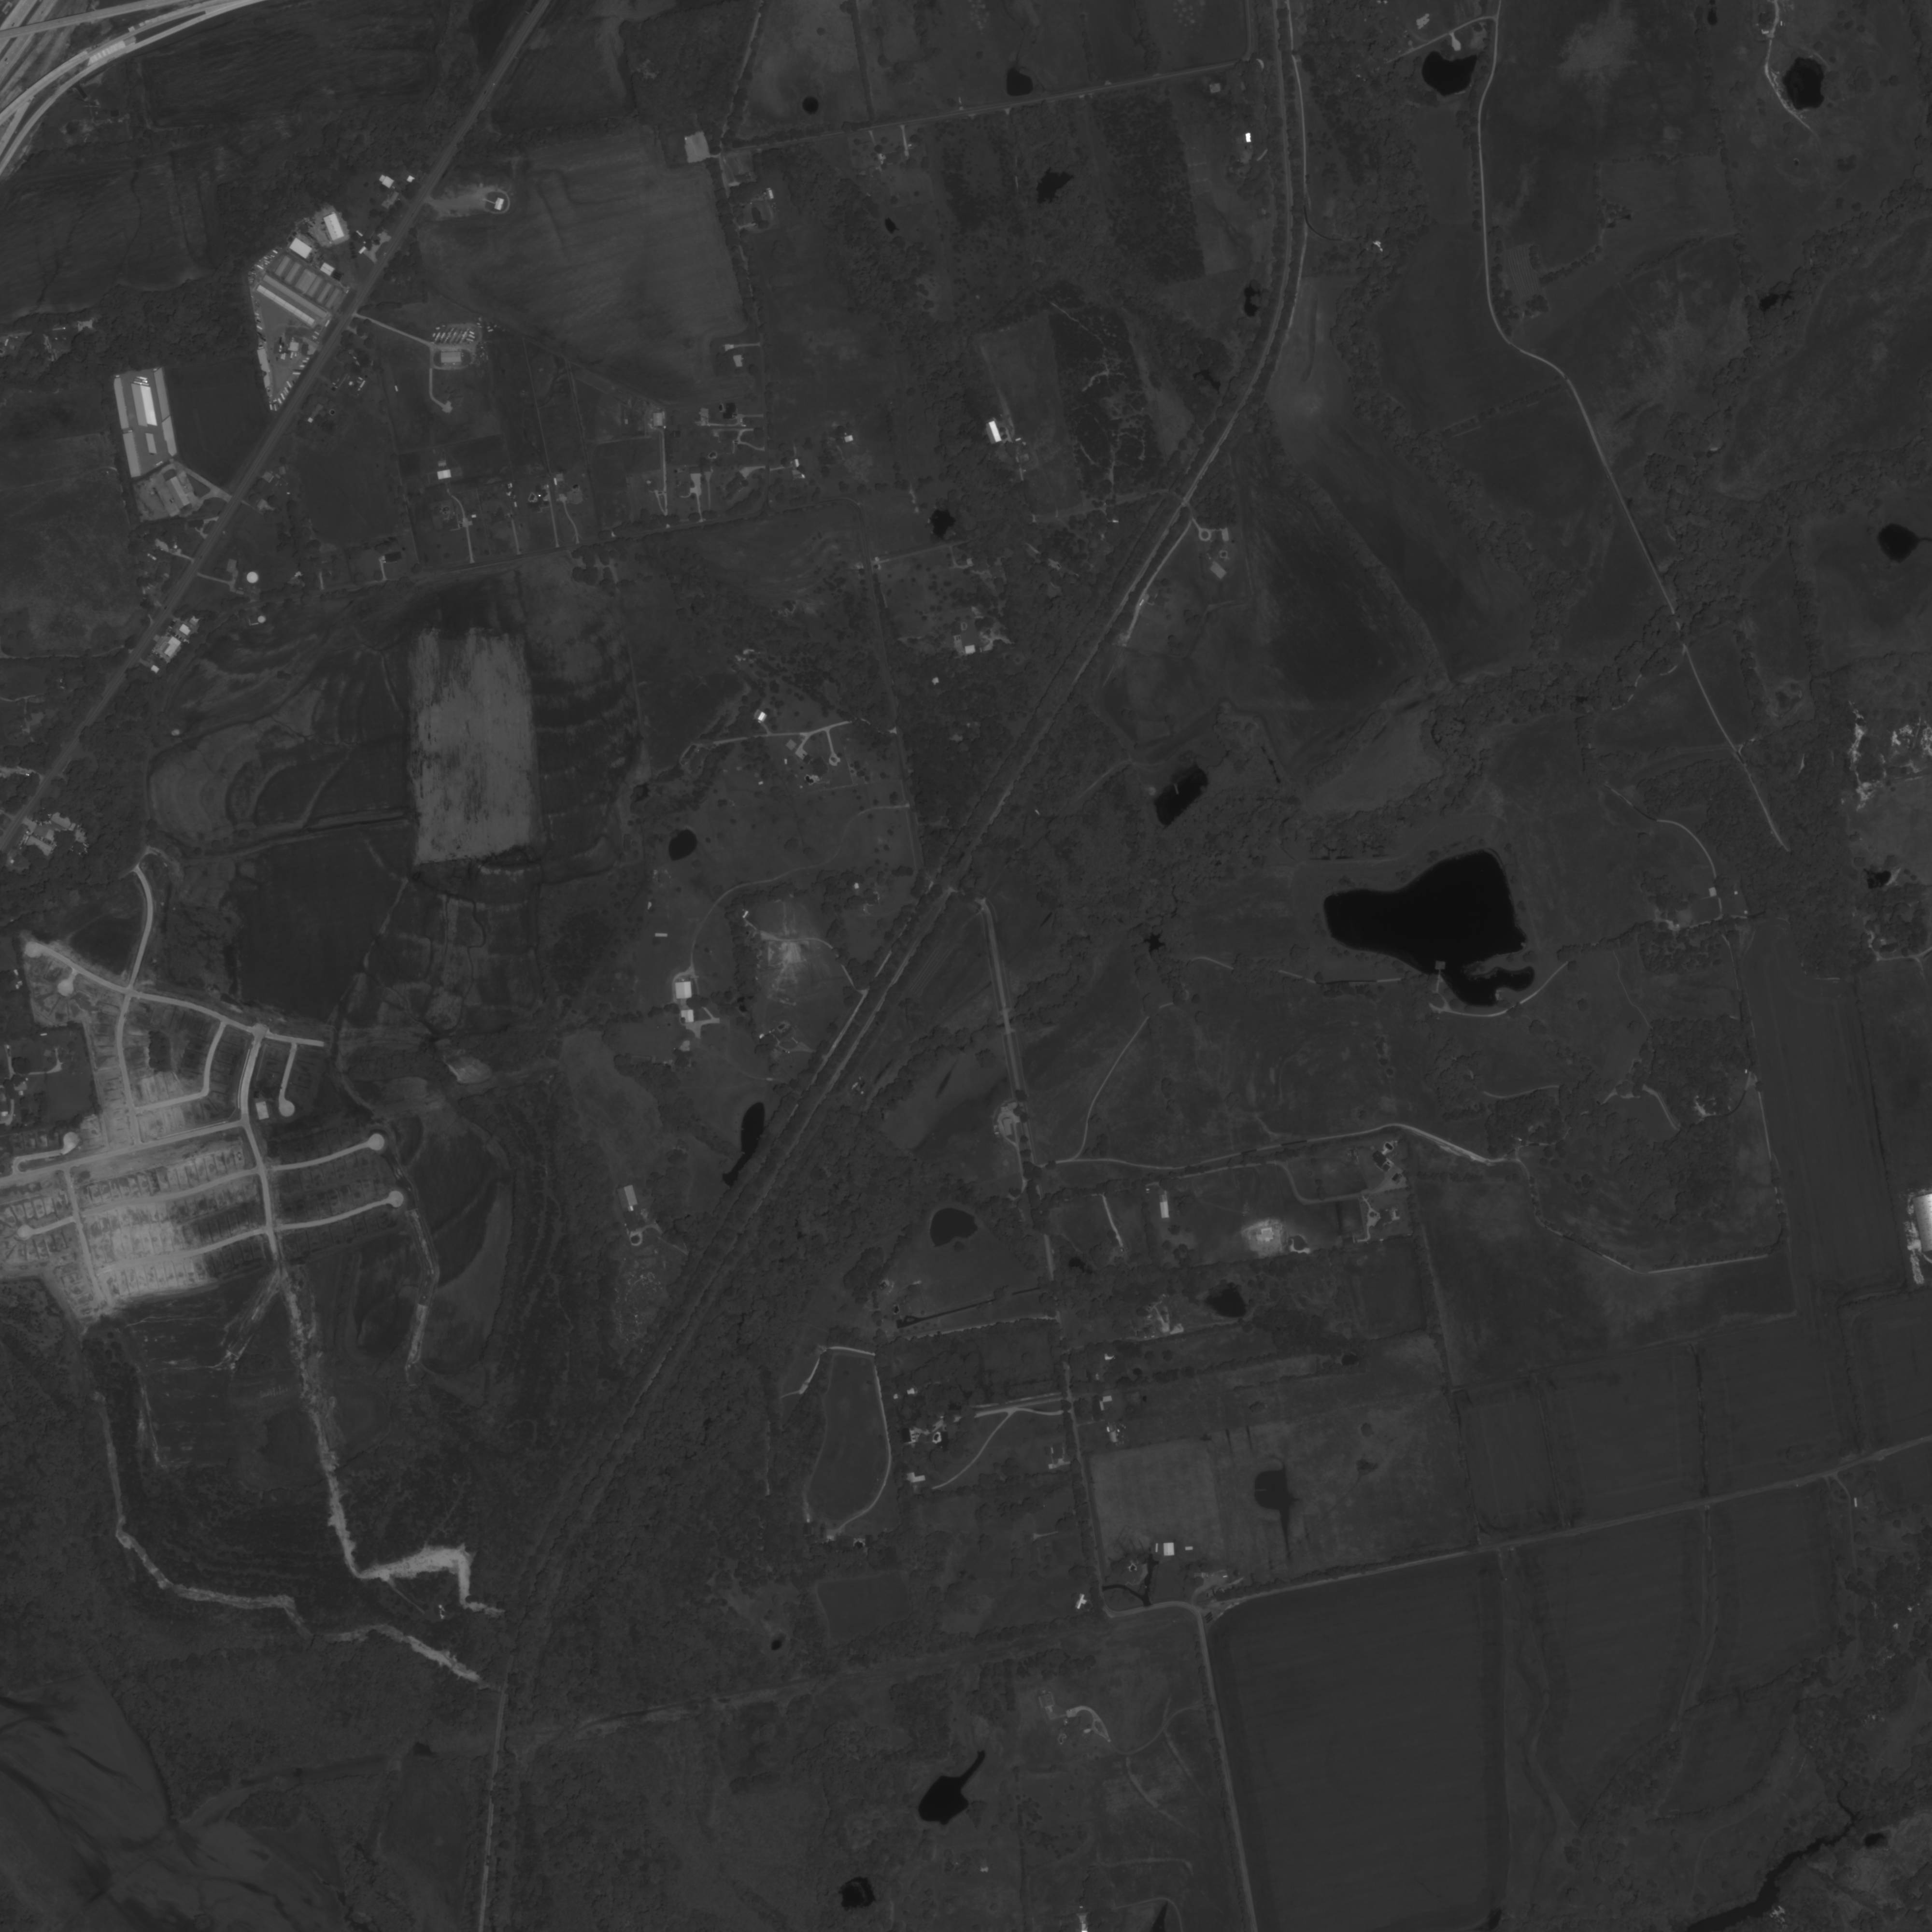storage tank: (246, 571, 258, 584)
